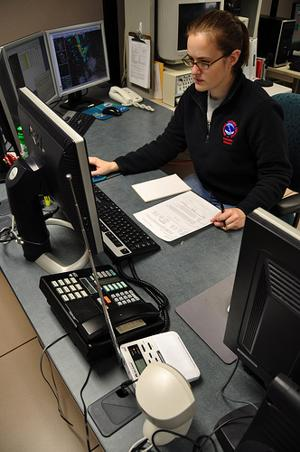person: (88, 8, 293, 235)
